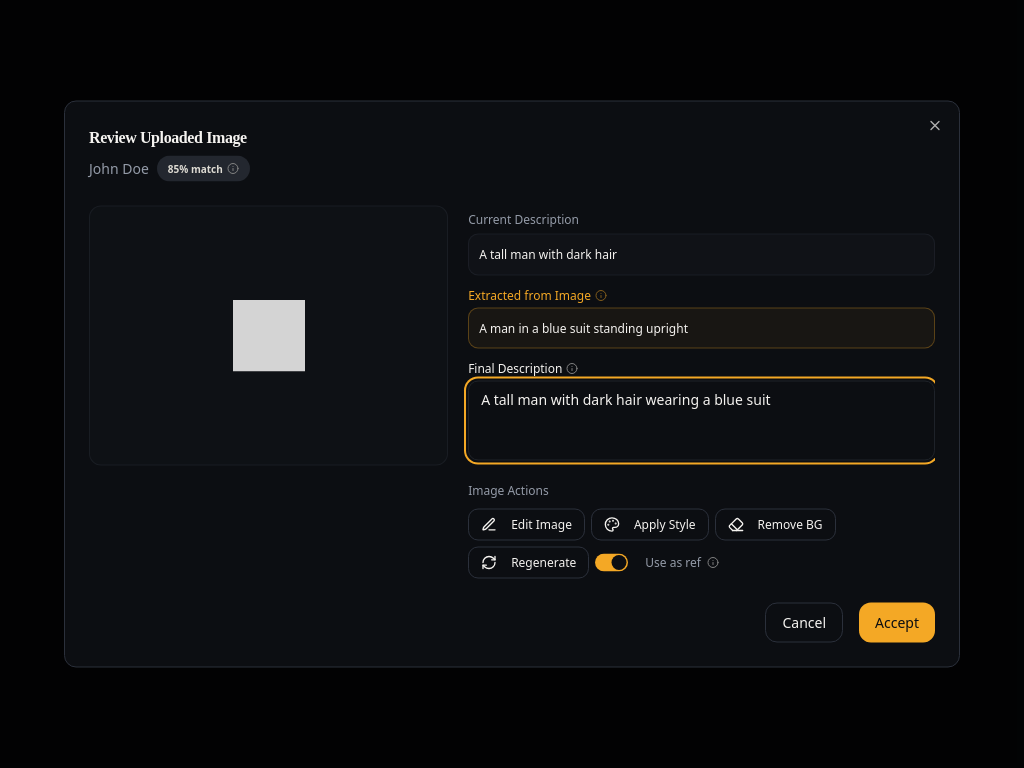
Test: EnhancedUploadModal › carousel navigation › should show carousel nav after a successful action
// Trigger an action that completes
Click the button "Apply Style" at (650, 524), box [591,508,709,540]
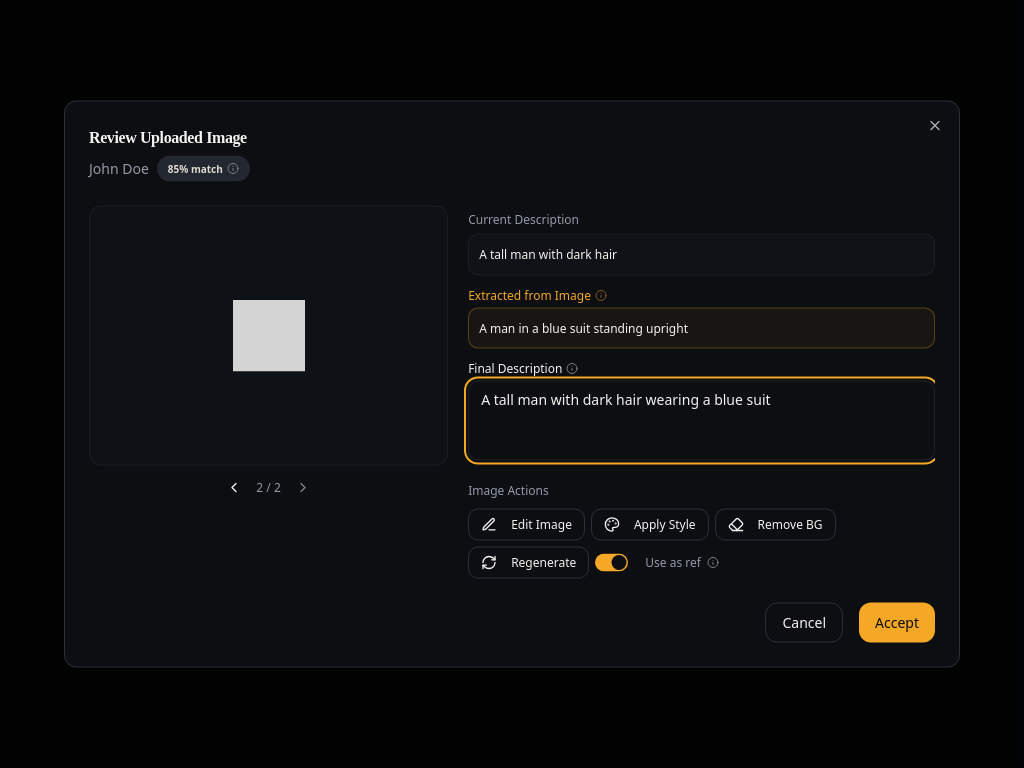
Check: the text "2 / 2" is shown, box [256,480,281,496]
